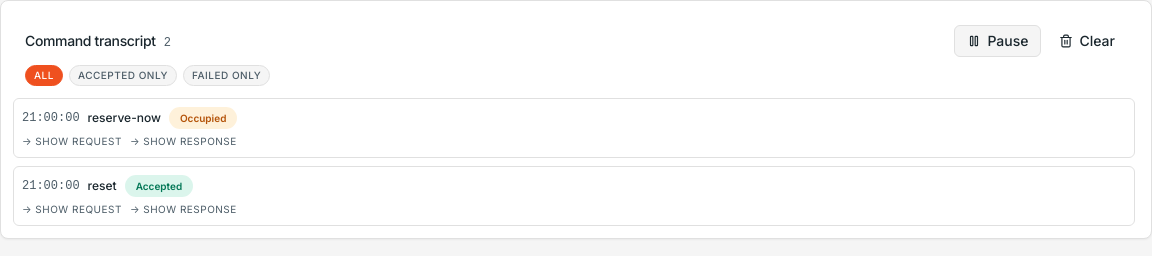
Test case: CommandTranscript › Failed-only filter hides accepted rows
Click the button with test id "transcript-filter-failed" at (227, 76), box [183, 65, 270, 86]
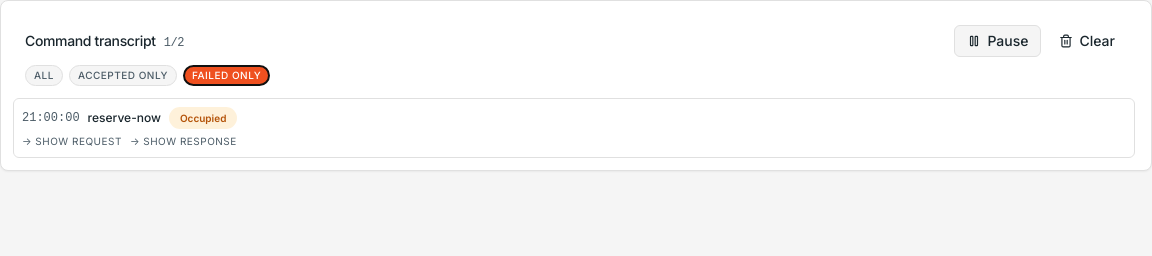
Result: the number of list items with test id "transcript-row" is 1 at [13, 98, 1135, 158]
